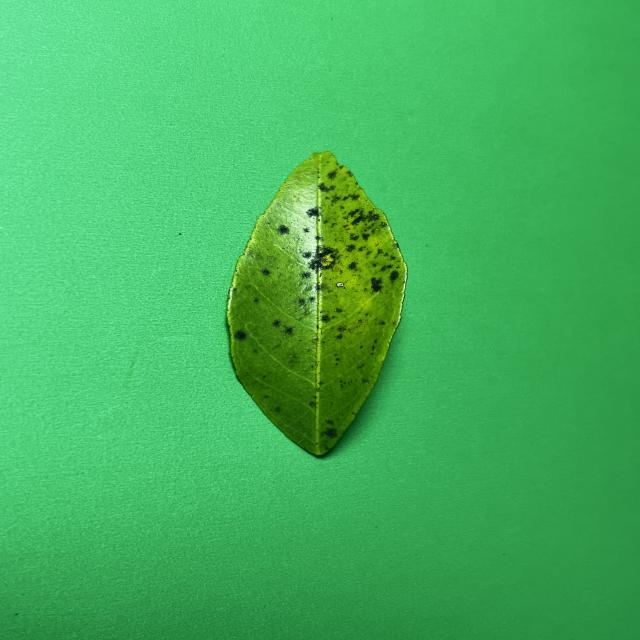sooty_mold: (227, 151, 407, 456)
